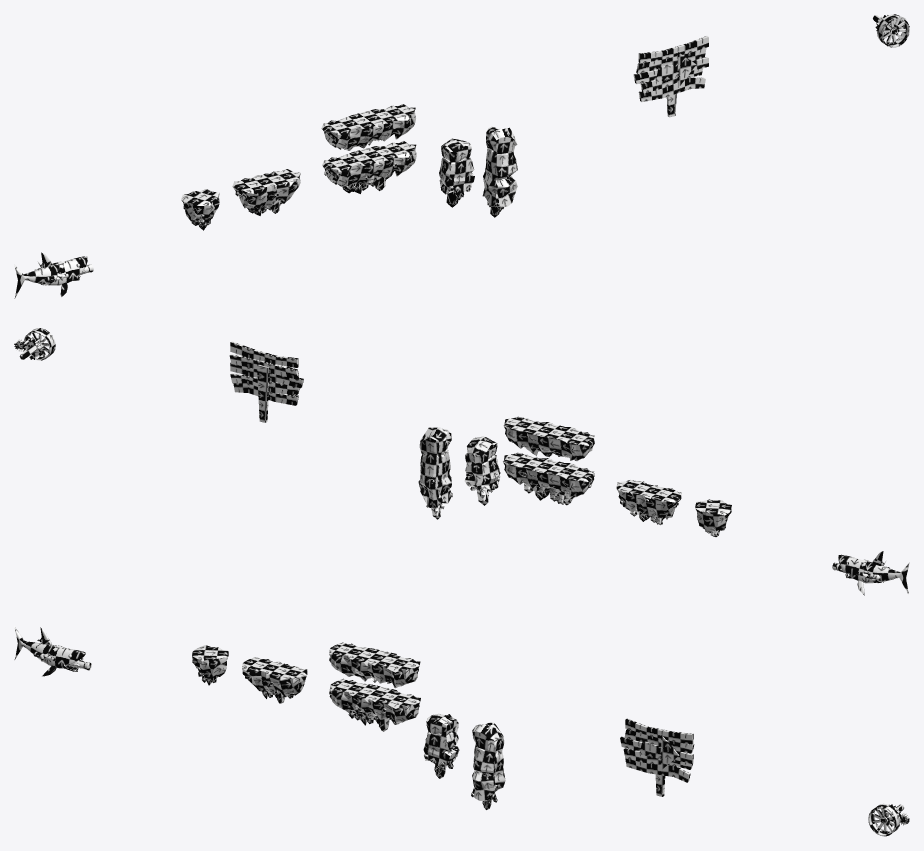
File: 05_gogimick_obj.fbx
The picture shows the model from 3 angles, top to bottom: view 1: azimuth 30°, elevation 25°; view 2: azimuth 150°, elevation 25°; view 3: azimuth 330°, elevation 25°; orthographic projection. The views are drawn at different scales.
Visible parts, largest first — view 1: _05_panel_obj, _05_platform03_obj, _05_platform04_obj, _05_platform05_obj, _05_platform02_obj, _05_platform06_obj, _05_shark_obj, _05_platform01_obj, _gearbig_obj; view 2: _05_panel_obj, _05_platform03_obj, _05_platform04_obj, _05_platform05_obj, _05_platform02_obj, _05_platform06_obj, _05_shark_obj, _05_platform01_obj, _gearbig_obj; view 3: _05_panel_obj, _05_platform03_obj, _05_platform04_obj, _05_platform05_obj, _05_platform02_obj, _05_platform06_obj, _05_shark_obj, _05_platform01_obj, _gearbig_obj.
Part boxes in pixels (x1,y1,x2,y2): _05_panel_obj: [633, 35, 708, 117]; _05_platform03_obj: [322, 141, 416, 193]; _05_platform04_obj: [321, 104, 415, 150]; _05_platform05_obj: [482, 126, 517, 217]; _05_platform02_obj: [232, 169, 300, 215]; _05_platform06_obj: [439, 138, 474, 207]; _05_shark_obj: [14, 252, 93, 298]; _05_platform01_obj: [181, 189, 219, 230]; _gearbig_obj: [873, 14, 909, 47]; _05_panel_obj: [229, 341, 303, 422]; _05_platform03_obj: [503, 452, 594, 505]; _05_platform04_obj: [503, 416, 594, 460]; _05_platform05_obj: [418, 427, 452, 519]; _05_platform02_obj: [616, 480, 681, 524]; _05_platform06_obj: [464, 436, 500, 505]; _05_shark_obj: [832, 551, 909, 596]; _05_platform01_obj: [695, 499, 731, 536]; _gearbig_obj: [19, 328, 55, 360]; _05_panel_obj: [620, 718, 694, 796]; _05_platform03_obj: [329, 678, 420, 731]; _05_platform04_obj: [329, 642, 420, 688]; _05_platform05_obj: [471, 722, 505, 809]; _05_platform02_obj: [242, 657, 307, 703]; _05_platform06_obj: [423, 713, 459, 778]; _05_shark_obj: [14, 626, 91, 676]; _05_platform01_obj: [192, 645, 228, 685]; _gearbig_obj: [868, 803, 903, 836].
Bounding box in the file's own units: 127 × 17.55 × 8.21.
Materials: 1 (1 with a texture image).
